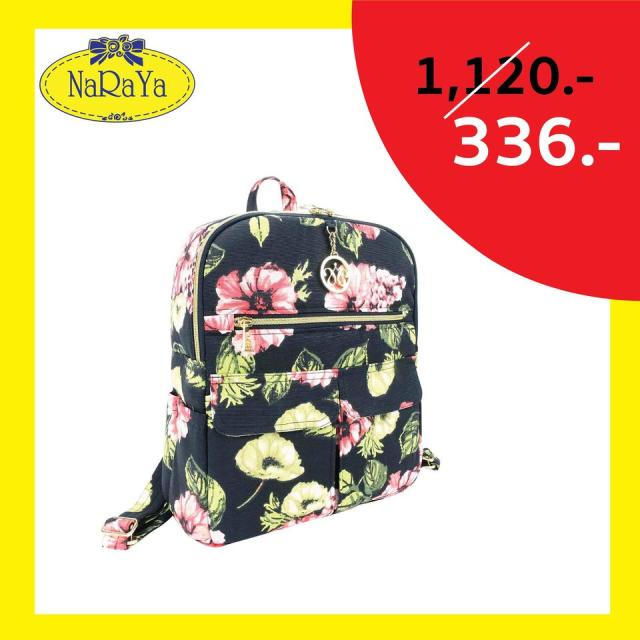Handbag: (166, 215, 426, 550)
